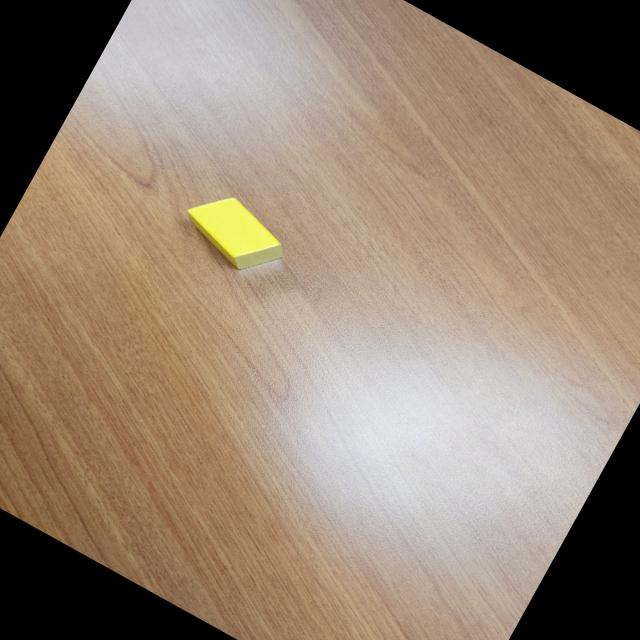yellow: (175, 180, 297, 284)
